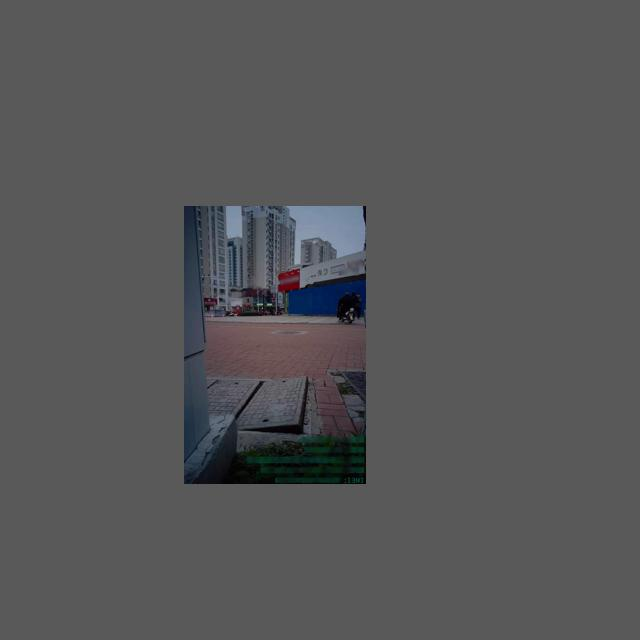uncovered: (208, 374, 314, 438)
